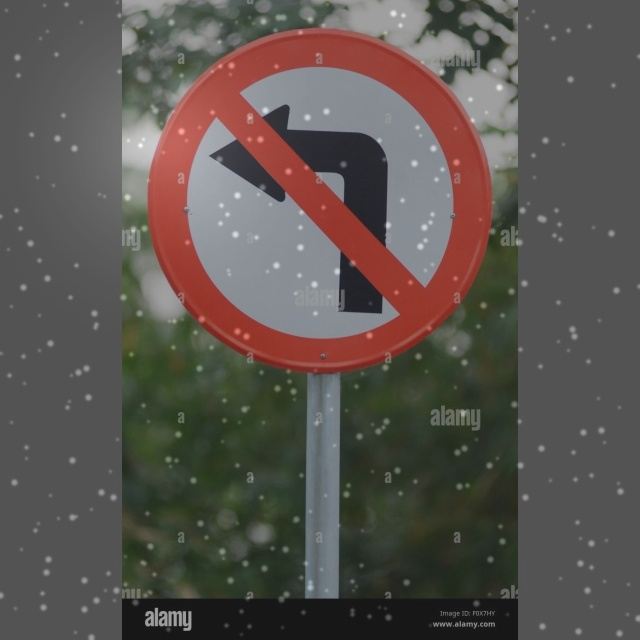Left_Turn_Prohibited: (146, 30, 494, 370)
